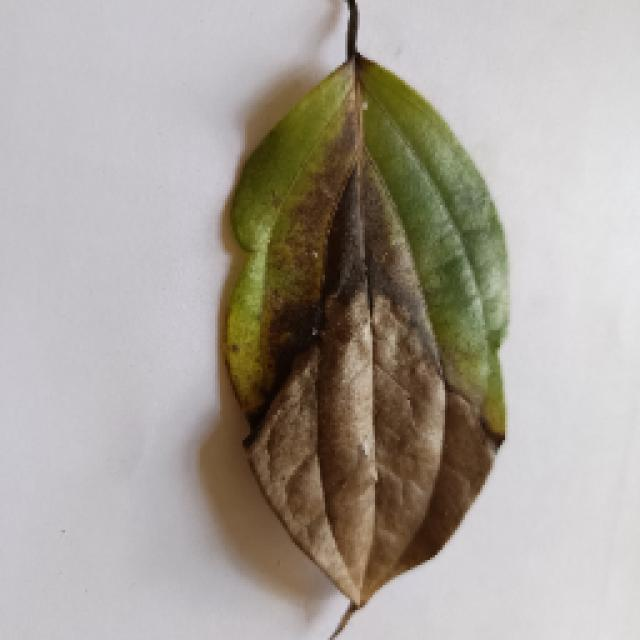footrot: (220, 18, 510, 628)
